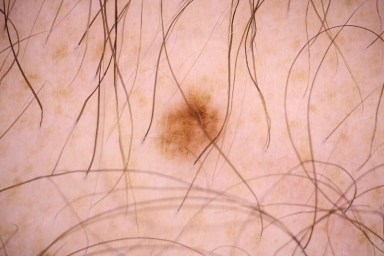nevus: (155, 95, 220, 158)
